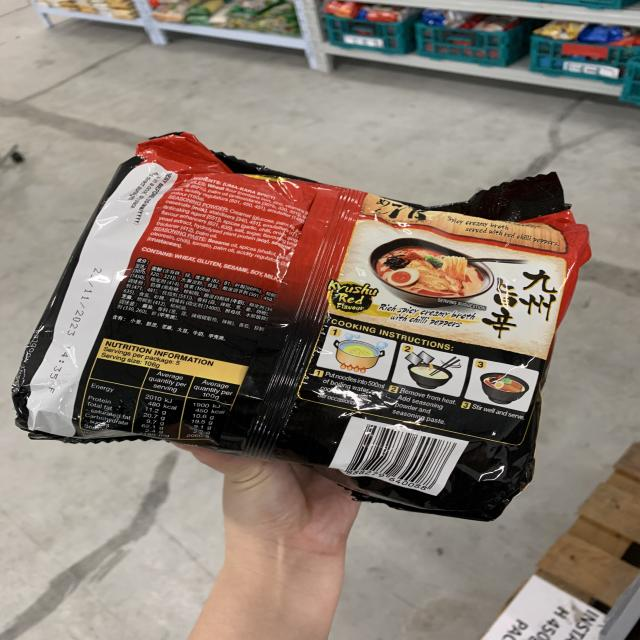object_name: (91, 155, 516, 486)
